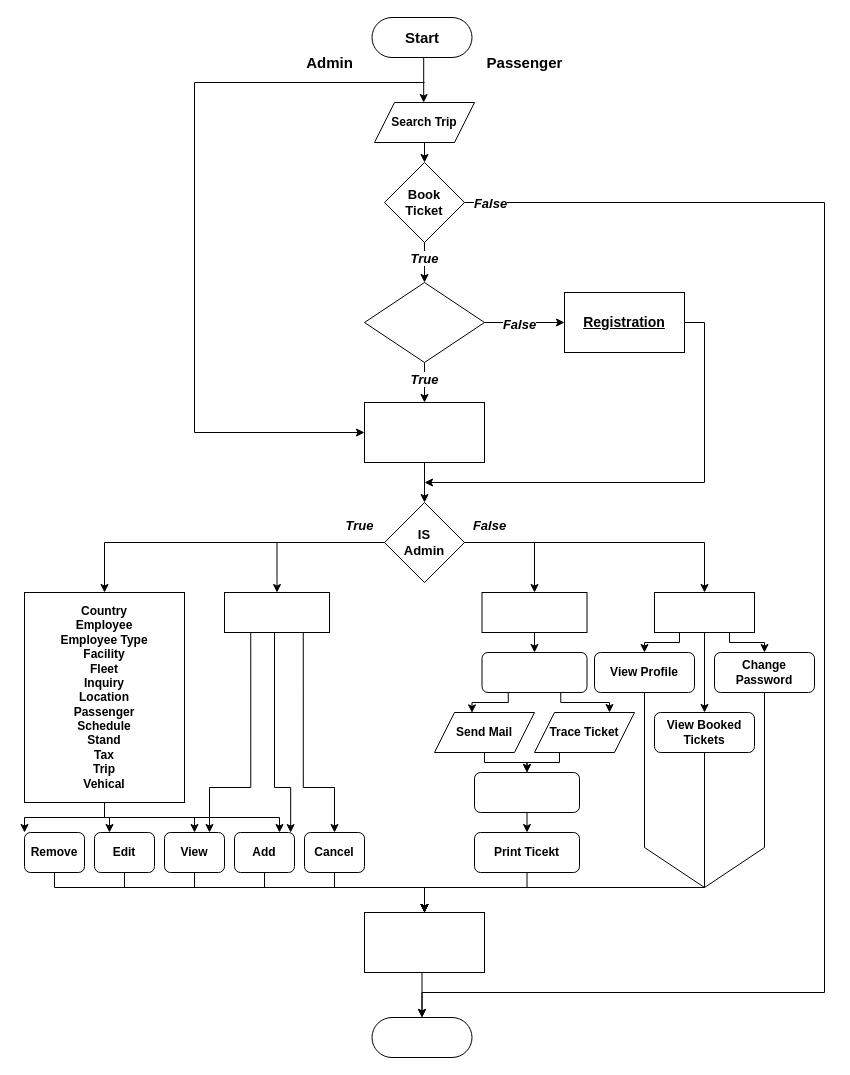
Image size: 850x1075. Some labels were removed from this diagram. The box of each missing label's shape, as (x1, y1, x2, y2) in pixels:
Book Ticekt: (481, 652, 587, 692)
DashBoard: (654, 592, 754, 632)
End: (371, 1016, 472, 1058)
Home: (481, 592, 587, 632)
IS Registered: (364, 282, 484, 362)
Login: (364, 402, 484, 462)
Logout: (364, 912, 484, 972)
Show Ticekt: (474, 772, 580, 812)
Ticket: (224, 592, 330, 632)
